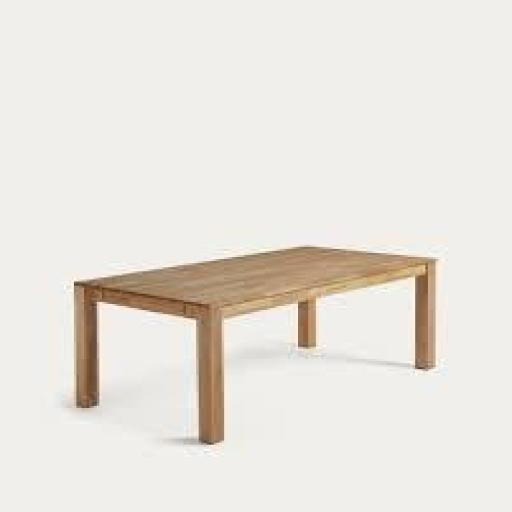table: (69, 243, 446, 434)
